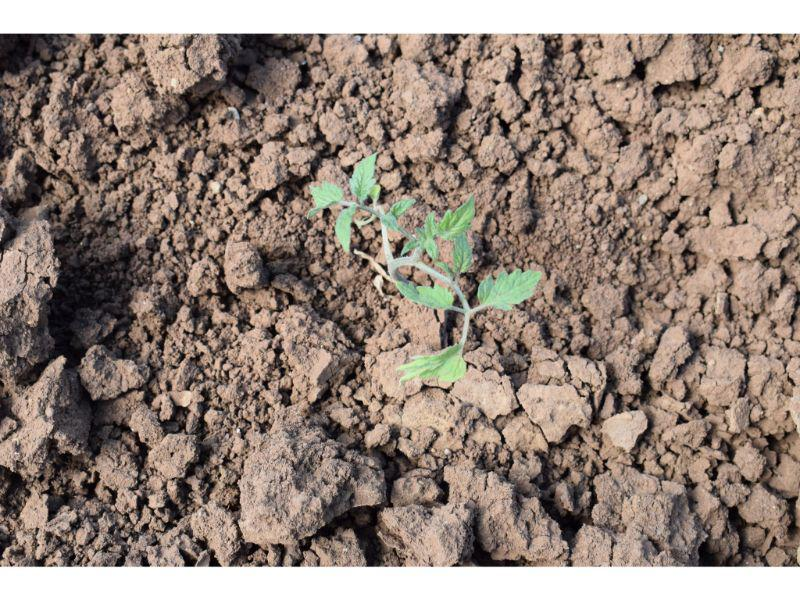tomato: (309, 156, 542, 385)
